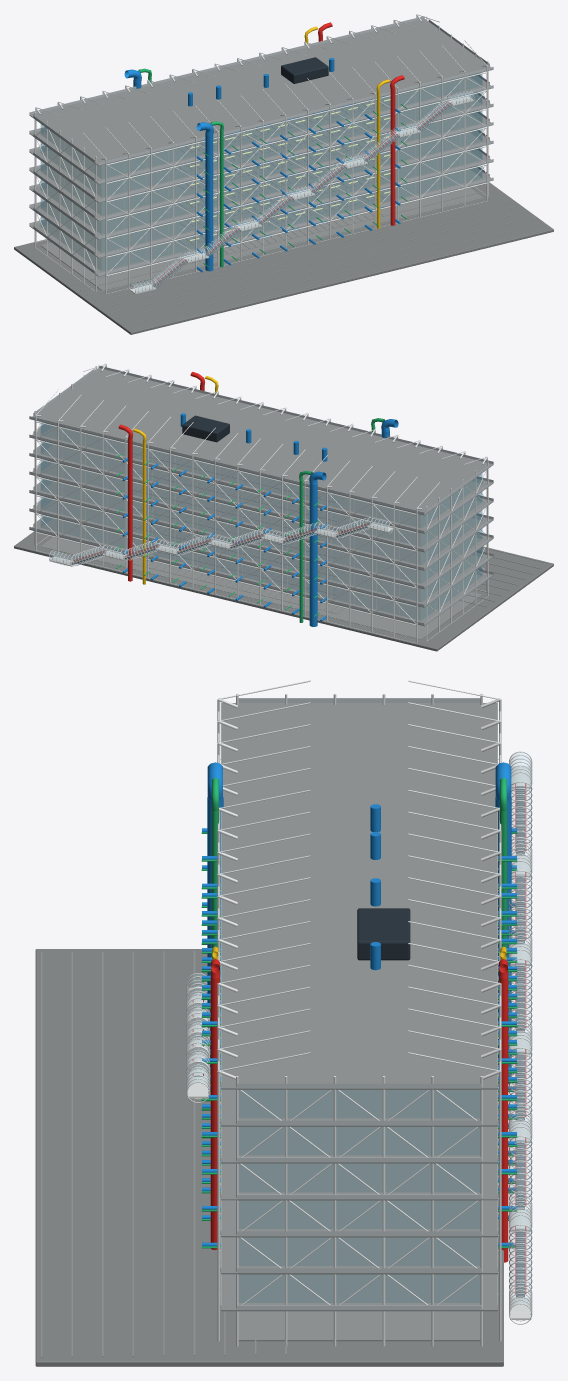
File: centre_pompidou.glb
The picture shows the model from 3 angles, top to bottom: view 1: azimuth 30°, elevation 25°; view 2: azimuth 150°, elevation 25°; view 3: azimuth 270°, elevation 25°; orthographic projection. The views are drawn at different scales.
Parts seen in each view (by area): view 1: Web_Concrete, Web_Facade_Glass_Web, Pompidou_Plaza, Web_Structure_White, Web_Facade_Steel, Escalator_Left_Facade_Up_Continuous_Glass_Tube, Web_Air_Blue, Web_Circulation_Red, Web_Water_Green, Web_Interior_Light, Roof_Service_Block, Web_Escalator_Belt (+2 smaller); view 2: Web_Concrete, Web_Facade_Glass_Web, Web_Structure_White, Web_Facade_Steel, Pompidou_Plaza, Web_Air_Blue, Escalator_Right_Facade_Up_Continuous_Glass_Tube, Web_Water_Green, Web_Circulation_Red, Roof_Service_Block, Web_Electrical_Yellow; view 3: Web_Concrete, Pompidou_Plaza, Web_Facade_Glass_Web, Web_Structure_White, Web_Facade_Steel, Escalator_Right_Facade_Up_Continuous_Glass_Tube, Web_Air_Blue, Web_Circulation_Red, Web_Water_Green, Web_Escalator_Tread_Metal, Roof_Service_Block, Web_Escalator_Belt (+1 smaller).
Boxes of the visible parts, <box> form: Web_Concrete: <box>29,18,548,330</box>; Web_Facade_Glass_Web: <box>41,73,482,270</box>; Pompidou_Plaza: <box>14,182,553,334</box>; Web_Structure_White: <box>34,14,488,294</box>; Web_Facade_Steel: <box>29,16,493,290</box>; Escalator_Left_Facade_Up_Continuous_Glass_Tube: <box>133,91,473,292</box>; Web_Air_Blue: <box>133,58,400,272</box>; Web_Circulation_Red: <box>152,37,451,285</box>; Web_Water_Green: <box>148,78,407,267</box>; Web_Interior_Light: <box>190,99,390,240</box>; Roof_Service_Block: <box>281,57,328,83</box>; Web_Escalator_Belt: <box>153,103,450,286</box>; Web_Concrete: <box>29,368,548,639</box>; Web_Facade_Glass_Web: <box>41,422,482,620</box>; Web_Structure_White: <box>34,363,488,643</box>; Web_Facade_Steel: <box>29,365,493,639</box>; Pompidou_Plaza: <box>14,531,553,651</box>; Web_Air_Blue: <box>122,413,389,626</box>; Escalator_Right_Facade_Up_Continuous_Glass_Tube: <box>49,518,389,566</box>; Web_Water_Green: <box>116,428,375,622</box>; Web_Circulation_Red: <box>71,386,369,581</box>; Roof_Service_Block: <box>182,415,229,442</box>; Web_Electrical_Yellow: <box>142,389,217,584</box>; Web_Concrete: <box>41,703,497,1357</box>; Pompidou_Plaza: <box>35,949,503,1366</box>; Web_Facade_Glass_Web: <box>239,1090,479,1302</box>; Web_Structure_White: <box>186,680,532,1346</box>; Web_Facade_Steel: <box>220,698,498,1309</box>; Escalator_Right_Facade_Up_Continuous_Glass_Tube: <box>509,752,531,1307</box>; Web_Air_Blue: <box>202,797,516,1246</box>; Web_Circulation_Red: <box>192,783,526,1294</box>; Web_Water_Green: <box>201,809,517,1248</box>; Web_Escalator_Tread_Metal: <box>194,786,524,1298</box>; Roof_Service_Block: <box>357,908,410,960</box>; Web_Escalator_Belt: <box>516,787,524,1297</box>.
Size of the model in its own units: 240 by 83.94 by 122.
